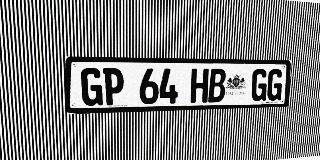4: (159, 68, 178, 104)
6: (140, 68, 159, 104)
B: (208, 69, 226, 102)
G: (81, 68, 103, 106), (266, 69, 284, 101), (251, 69, 268, 101)
H: (190, 69, 209, 103)
P: (103, 68, 124, 105)
